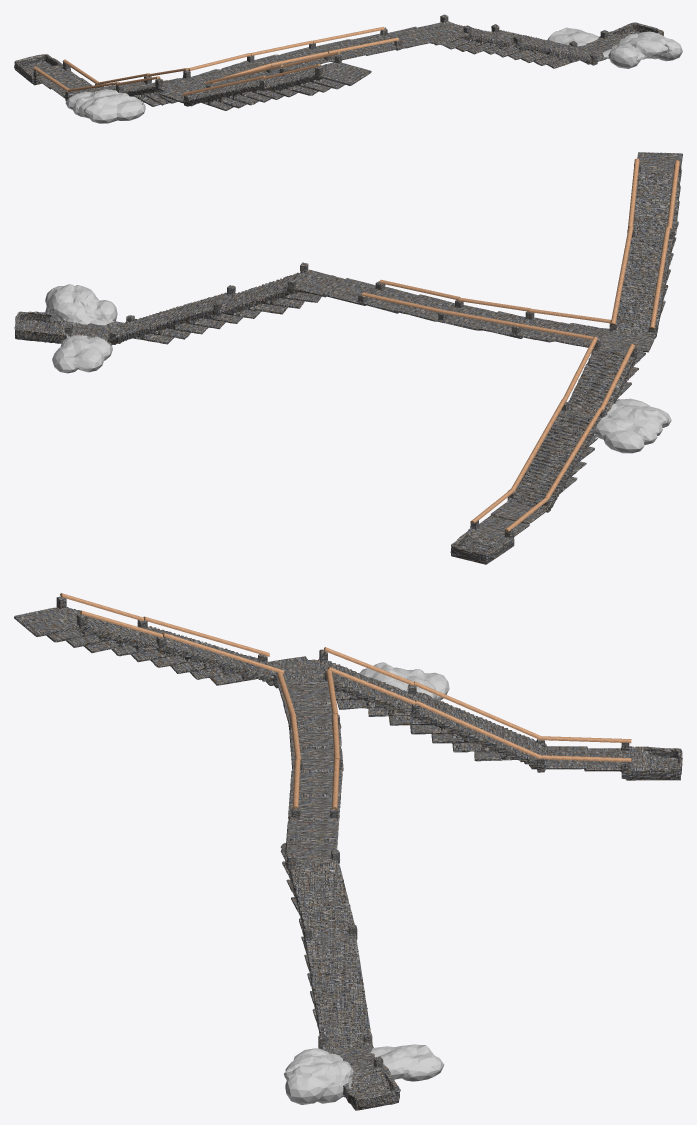
Rendered from Wisemans View.fbx.
The picture shows the model from 3 angles, top to bottom: view 1: azimuth 30°, elevation 25°; view 2: azimuth 150°, elevation 25°; view 3: azimuth 270°, elevation 25°; orthographic projection. The views are drawn at different scales.
Visible parts, largest first — view 1: Wisemans View, Cylinder.015, Cylinder.006, Cylinder.014, Cylinder.007, Cylinder.010, Cylinder.012, Cylinder.013, Cylinder.009; view 2: Wisemans View; view 3: Wisemans View.
Boxes of the visible parts, bbox=[...] form: Wisemans View: bbox=[14, 14, 682, 123]; Cylinder.015: bbox=[313, 27, 384, 43]; Cylinder.006: bbox=[183, 75, 265, 95]; Cylinder.014: bbox=[328, 37, 398, 53]; Cylinder.007: bbox=[205, 64, 282, 84]; Cylinder.010: bbox=[188, 53, 251, 70]; Cylinder.012: bbox=[251, 40, 313, 55]; Cylinder.013: bbox=[270, 51, 328, 66]; Cylinder.009: bbox=[282, 51, 340, 67]; Wisemans View: bbox=[14, 152, 682, 564]; Wisemans View: bbox=[14, 596, 682, 1110].
Size of the model in its own units: 20551 by 6113 by 15826.
